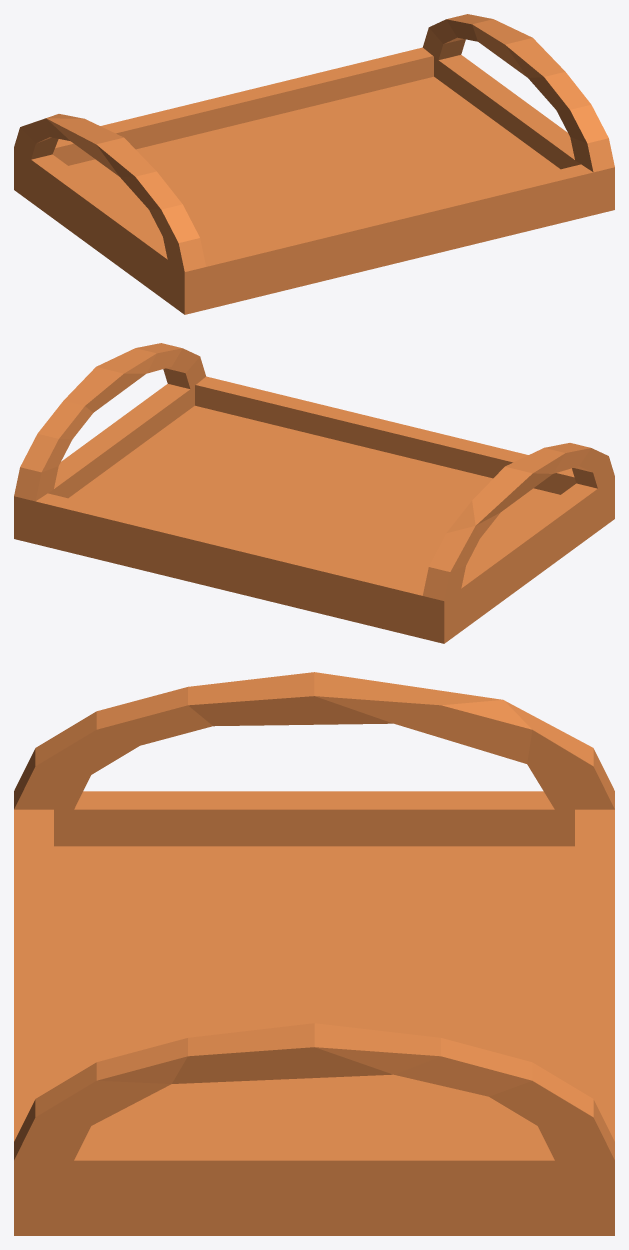
The model's file is Carring Desk_1.fbx.
The picture shows the model from 3 angles, top to bottom: view 1: azimuth 30°, elevation 25°; view 2: azimuth 150°, elevation 25°; view 3: azimuth 270°, elevation 25°; orthographic projection. The views are drawn at different scales.
Visible parts, largest first — view 1: Carring Desk_1; view 2: Carring Desk_1; view 3: Carring Desk_1.
Part boxes in pixels (x1=…): Carring Desk_1: x1=14, y1=14, x2=614, y2=314; Carring Desk_1: x1=14, y1=343, x2=614, y2=643; Carring Desk_1: x1=14, y1=672, x2=614, y2=1235.
Bounding box in the file's own units: 85.81 × 20.44 × 58.11.
